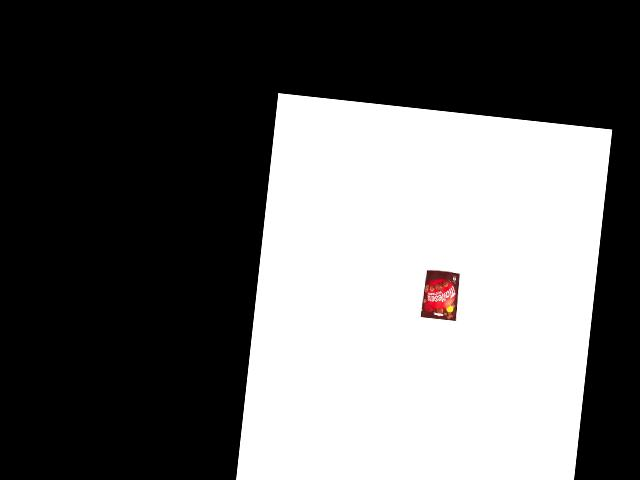chocolate: (419, 268, 461, 321)
